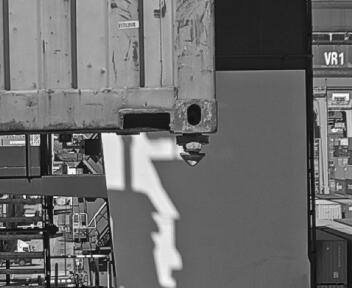twist_lock_2: (256, 122, 303, 173)
